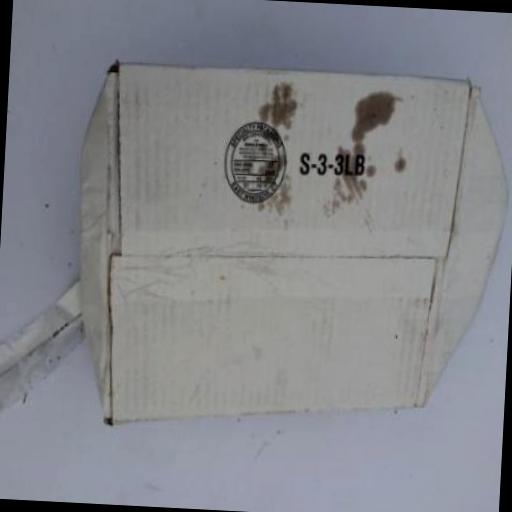cardboard: (65, 59, 512, 446)
